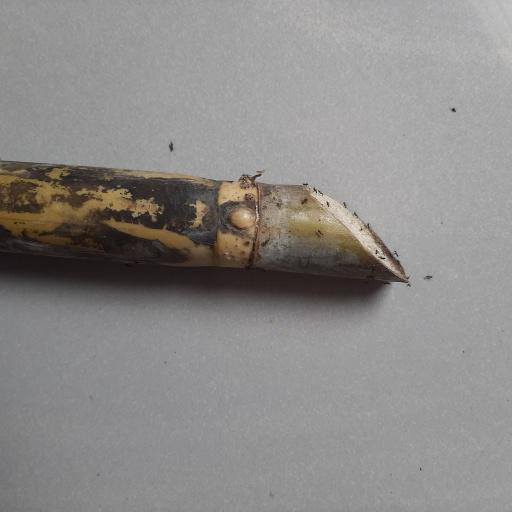Bud: (223, 203, 256, 231)
